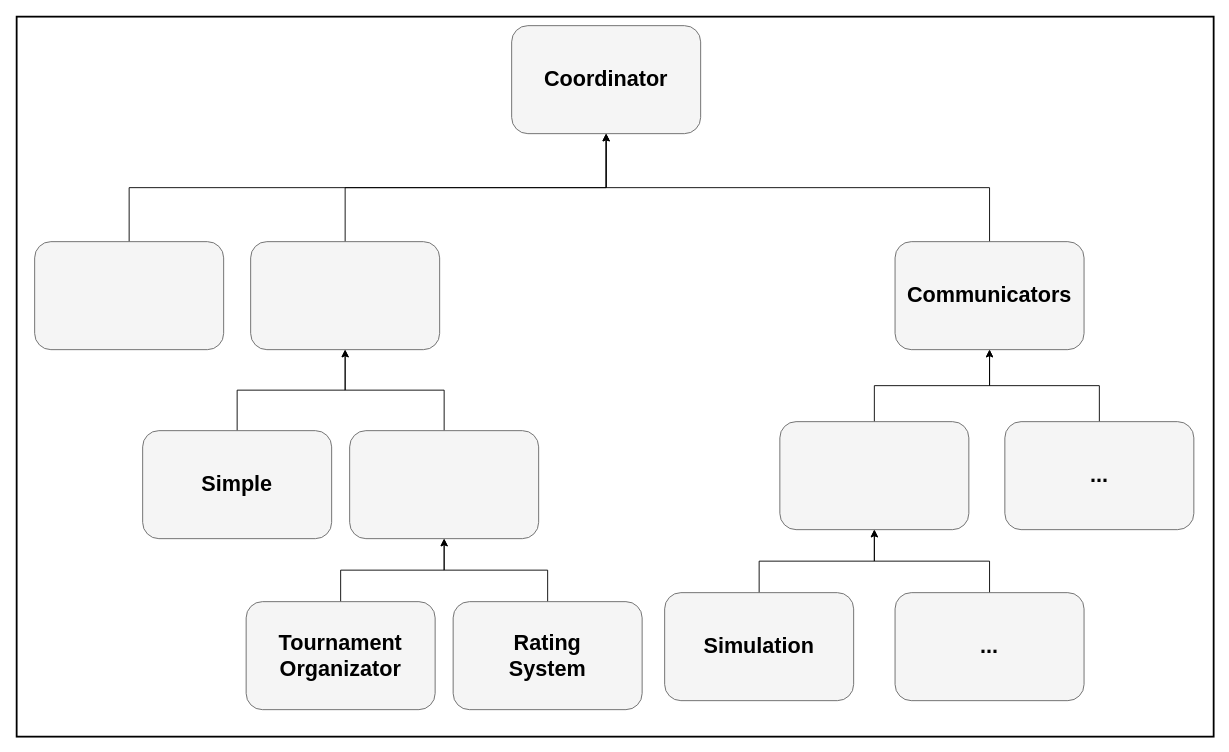
The diagram is 1229 pixels wide and 752 high, and some of its shapes have lost their labels. Each missing label, with the centre of its shape:
"Communicator" belongs at [874,475].
"Complex" belongs at [444,484].
"Evaluators" belongs at [345,295].
"Individuals" belongs at [129,295].
